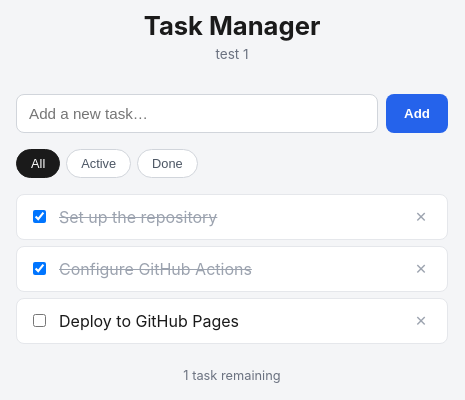
Test: filters to show only active tasks
The image size is (465, 400).
Click the button "Active" at [99, 163], box [66,149,131,178]
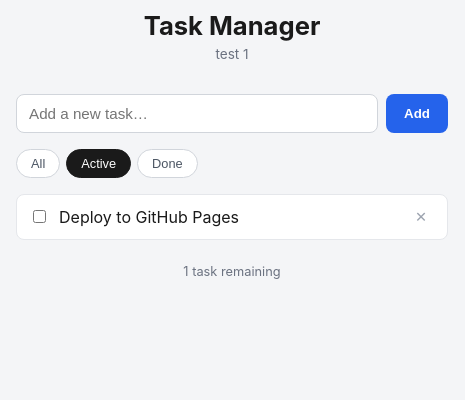
Expected: the text "Deploy to GitHub Pages" is shown, [59,207,239,227]
Result: the text "Set up the repository" is gone
